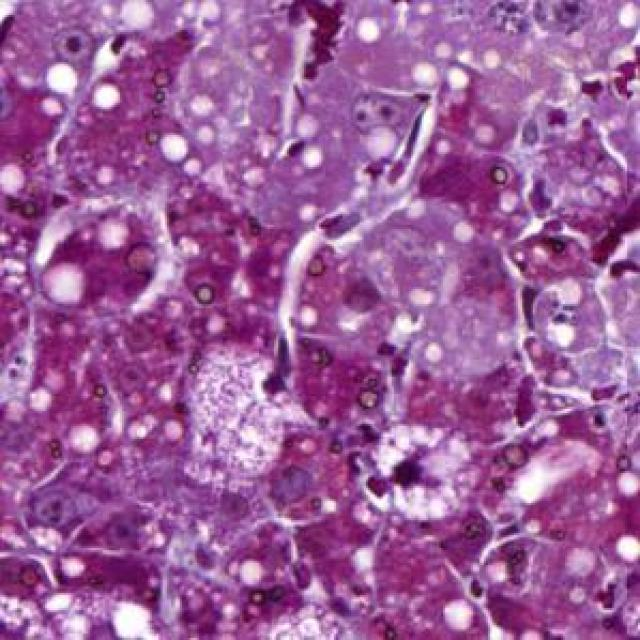ballooning: (351, 419, 484, 531)
